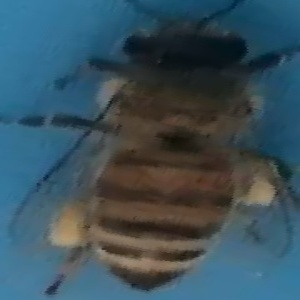bee: (42, 4, 293, 300)
